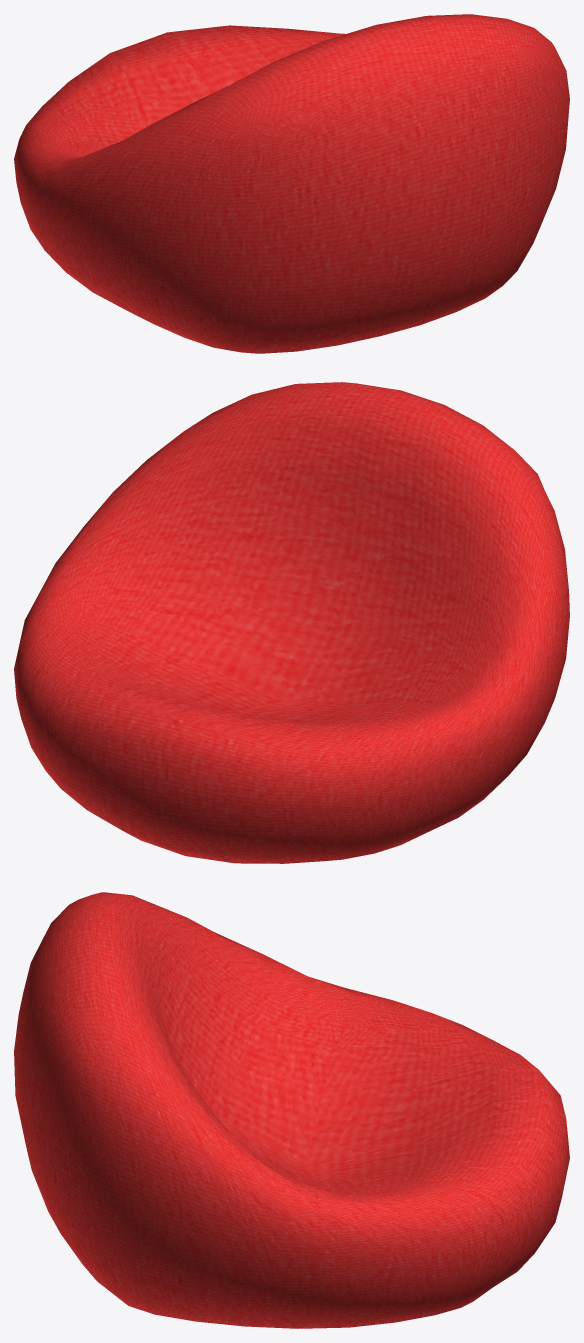
Rendered from puff.fbx.
3 renders of one model, top to bottom at view 1: azimuth 30°, elevation 25°; view 2: azimuth 150°, elevation 25°; view 3: azimuth 270°, elevation 25°, orthographic. The views are drawn at different scales.
Parts seen in each view (by area): view 1: puff; view 2: puff; view 3: puff.
Part boxes in pixels (x1,y1,x2,y2): puff: (14, 14, 569, 353); puff: (14, 382, 569, 863); puff: (14, 892, 569, 1328).
Size of the model in its own units: 1.1 by 1.07 by 0.7657.
